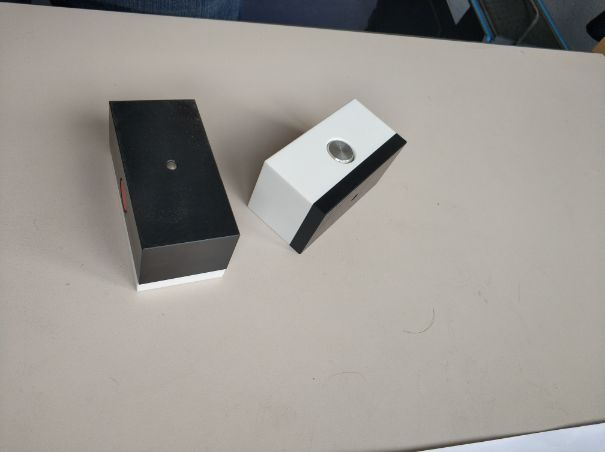black+white+silver: (245, 97, 412, 258)
white+black+red: (105, 97, 241, 293)
